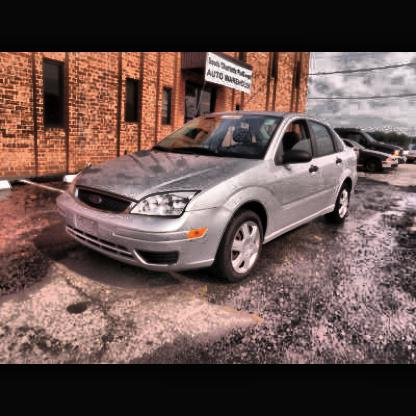Ford Focus Sedan 2007: (60, 115, 361, 283)
